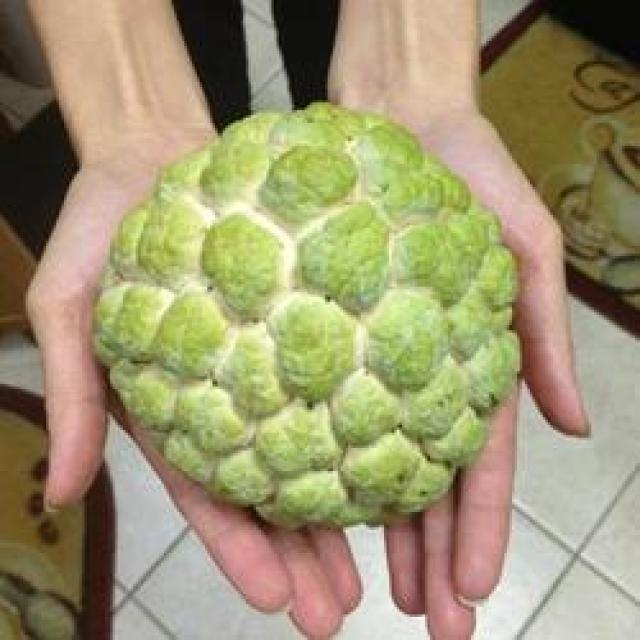apple: (103, 98, 517, 522)
